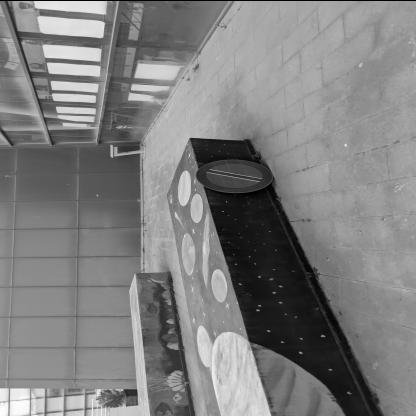No Waiting: (196, 159, 274, 193)
